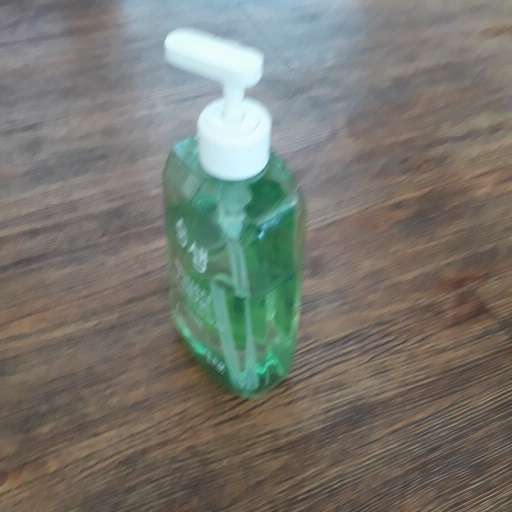Plastic_3: (158, 26, 307, 398)
